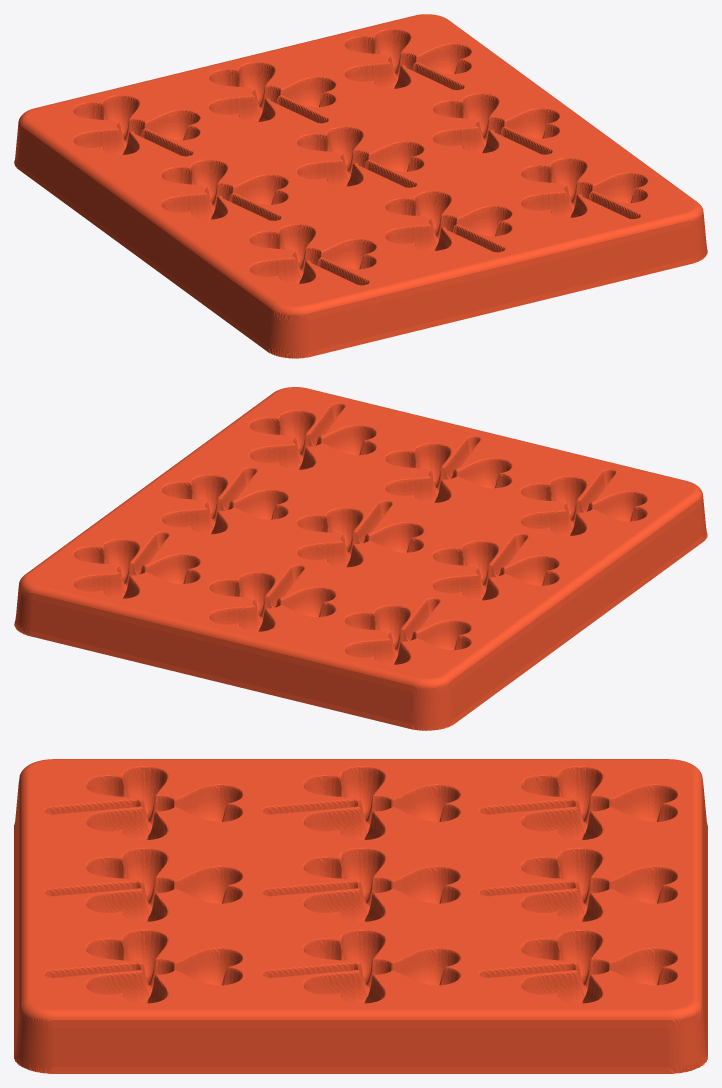
File: mold.glb
The picture shows the model from 3 angles, top to bottom: view 1: azimuth 30°, elevation 25°; view 2: azimuth 150°, elevation 25°; view 3: azimuth 270°, elevation 25°; orthographic projection. The views are drawn at different scales.
Parts seen in each view (by area): view 1: geometry_0; view 2: geometry_0; view 3: geometry_0.
Part boxes in pixels (x1,y1,x2,y2): geometry_0: (14,14,707,358); geometry_0: (14,387,707,730); geometry_0: (14,759,707,1073).
Bounding box in the file's own units: 0.1414 × 0.0145 × 0.1579.
